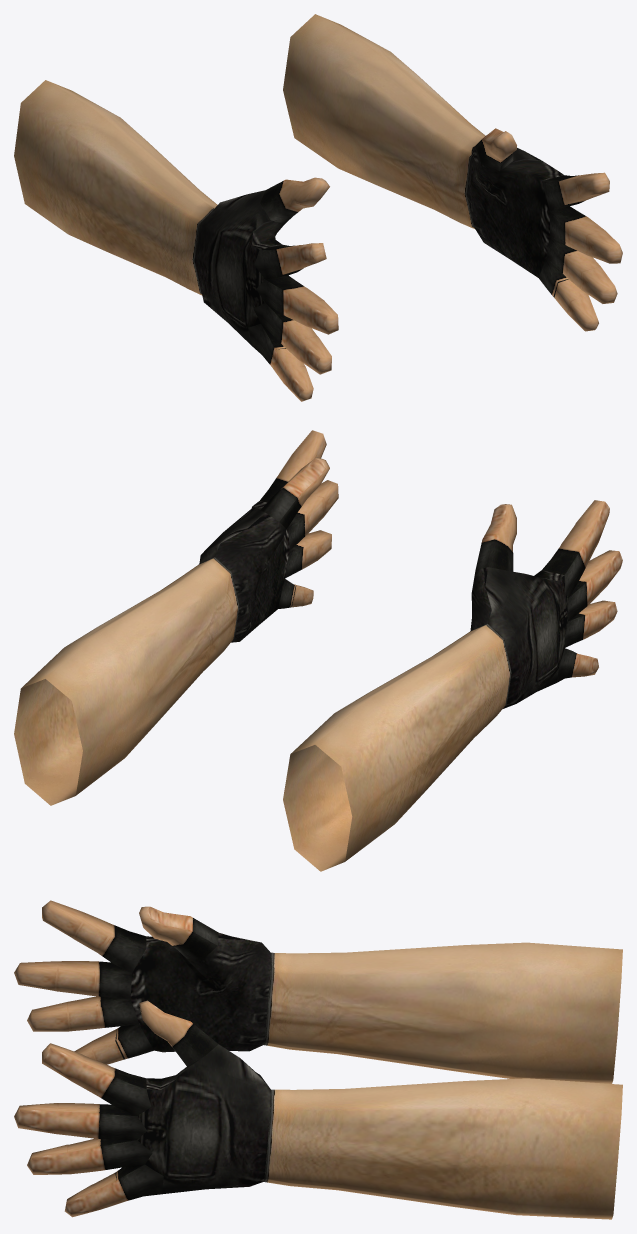
File: remaster_hands.glb
3 views of the same model, one above another, from view 1: azimuth 30°, elevation 25°; view 2: azimuth 150°, elevation 25°; view 3: azimuth 270°, elevation 25° (orthographic). The views are drawn at different scales.
Parts seen in each view (by area): view 1: Arms_CS_16_3_17_13, Arms_CS_16_2_16_11, Arms_CS_16_1_15_9; view 2: Arms_CS_16_3_17_13, Arms_CS_16_2_16_11, Arms_CS_16_1_15_9; view 3: Arms_CS_16_3_17_13, Arms_CS_16_2_16_11, Arms_CS_16_1_15_9.
Part boxes in pixels (x1,y1,x2,y2): Arms_CS_16_3_17_13: (14, 14, 485, 295); Arms_CS_16_2_16_11: (248, 128, 622, 401); Arms_CS_16_1_15_9: (194, 146, 568, 349); Arms_CS_16_3_17_13: (14, 557, 511, 871); Arms_CS_16_2_16_11: (260, 430, 622, 682); Arms_CS_16_1_15_9: (199, 501, 568, 708); Arms_CS_16_3_17_13: (263, 942, 622, 1219); Arms_CS_16_2_16_11: (14, 900, 218, 1217); Arms_CS_16_1_15_9: (115, 933, 270, 1194).
Bounding box in the file's own units: 14.71 × 7.78 × 21.72.
Materials: 3 (3 with a texture image).
